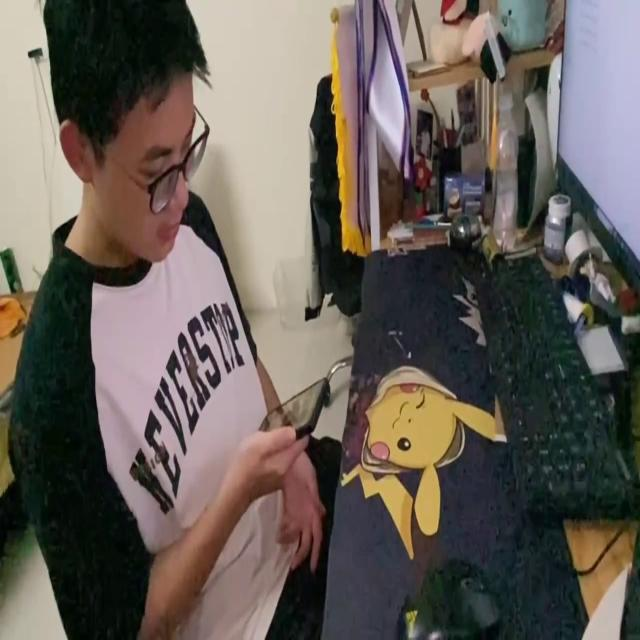laptop: (552, 2, 640, 306)
phone: (255, 372, 328, 446)
student: (4, 0, 336, 640)
